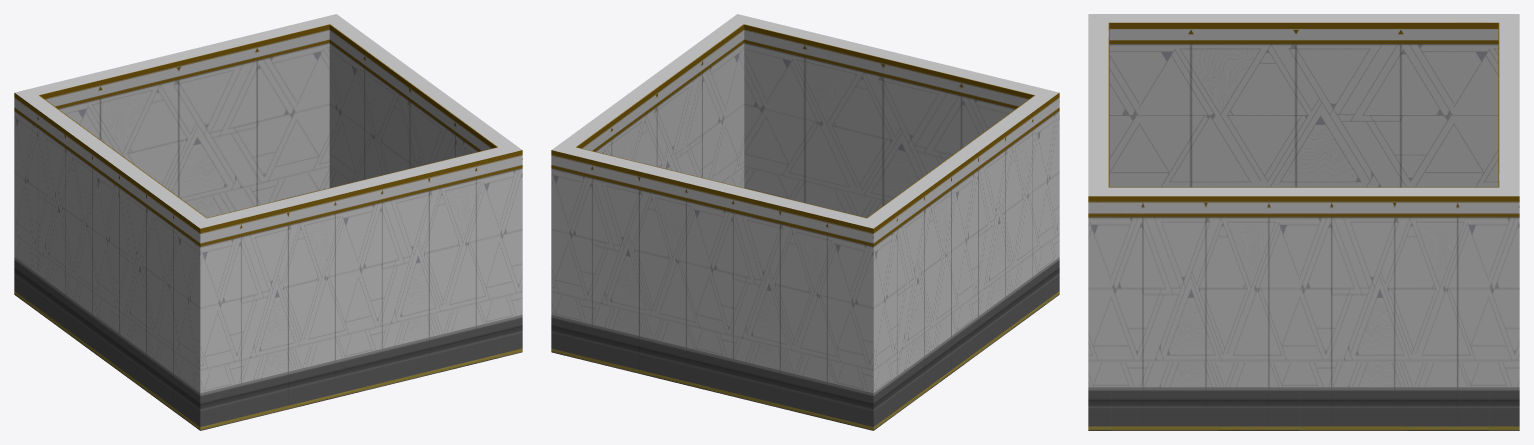
Rendered from room_ab2024_wall.gltf.
3 views of the same model, side by side, from view 1: azimuth 30°, elevation 25°; view 2: azimuth 150°, elevation 25°; view 3: azimuth 270°, elevation 25° (orthographic). The views are drawn at different scales.
Visible parts, largest first — view 1: ab2024_Wall; view 2: ab2024_Wall; view 3: ab2024_Wall.
Boxes of the visible parts, bbox=[...] form: ab2024_Wall: bbox=[14, 14, 522, 430]; ab2024_Wall: bbox=[551, 14, 1059, 430]; ab2024_Wall: bbox=[1088, 14, 1519, 430].
Bounding box in the file's own units: 4 × 2.4 × 4.
Materials: 2 (2 with a texture image).
